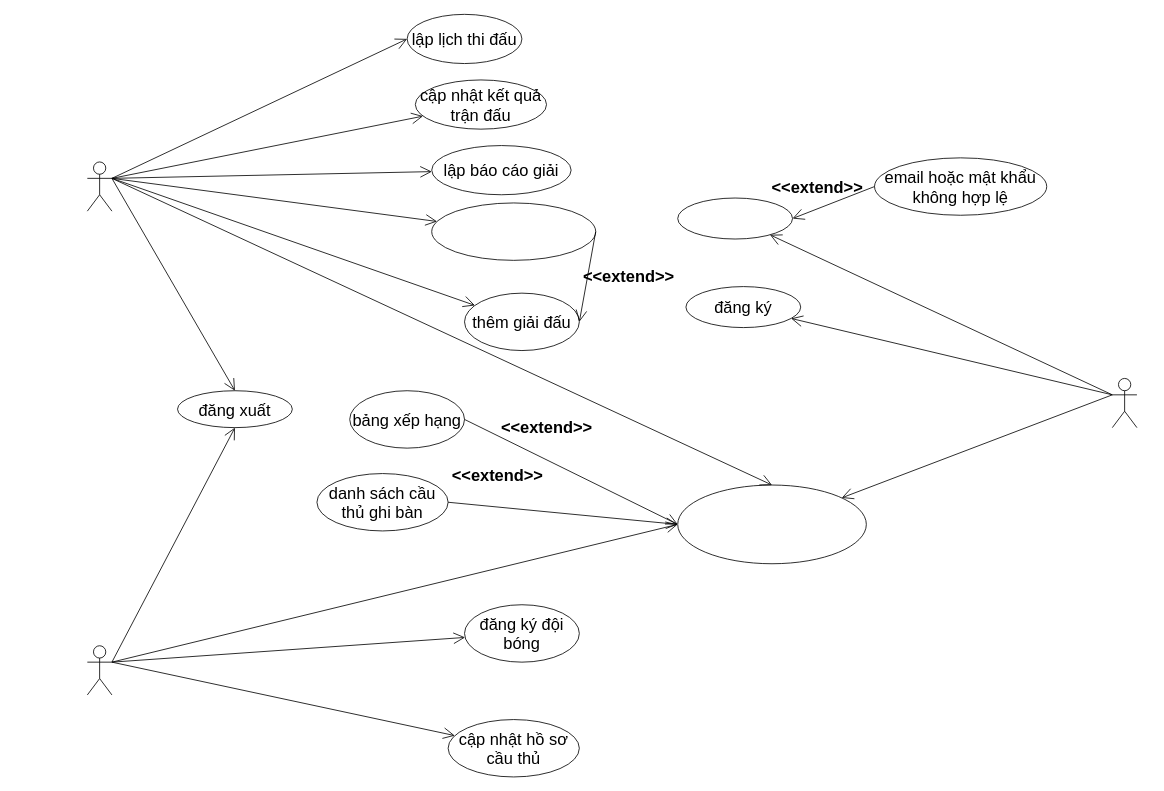
Image size: 1164x791. Some labels were removed from this diagram. The shapes that lost their labels are listed below. From the top down, each one's centre as x and y in pixels, then its label:
At [99,186]: "Người quản lý giải đấu".
At [513,231]: "điều chỉnh các quy định giải đấu".
At [735,218]: "đăng nhập".
At [1124,403]: "Guests".
At [771,524]: "tra cứu thông tin giải đấu".
At [99,670]: "Người quản lý đội bóng".
